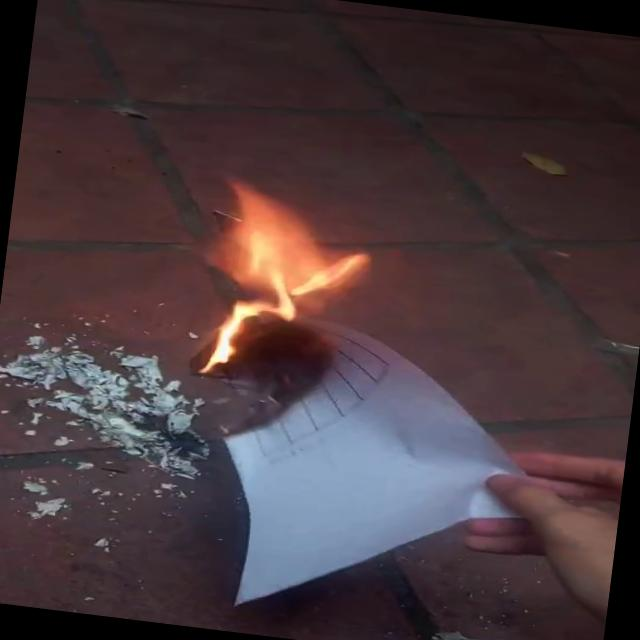Fire_Dangerous: (194, 176, 368, 400)
